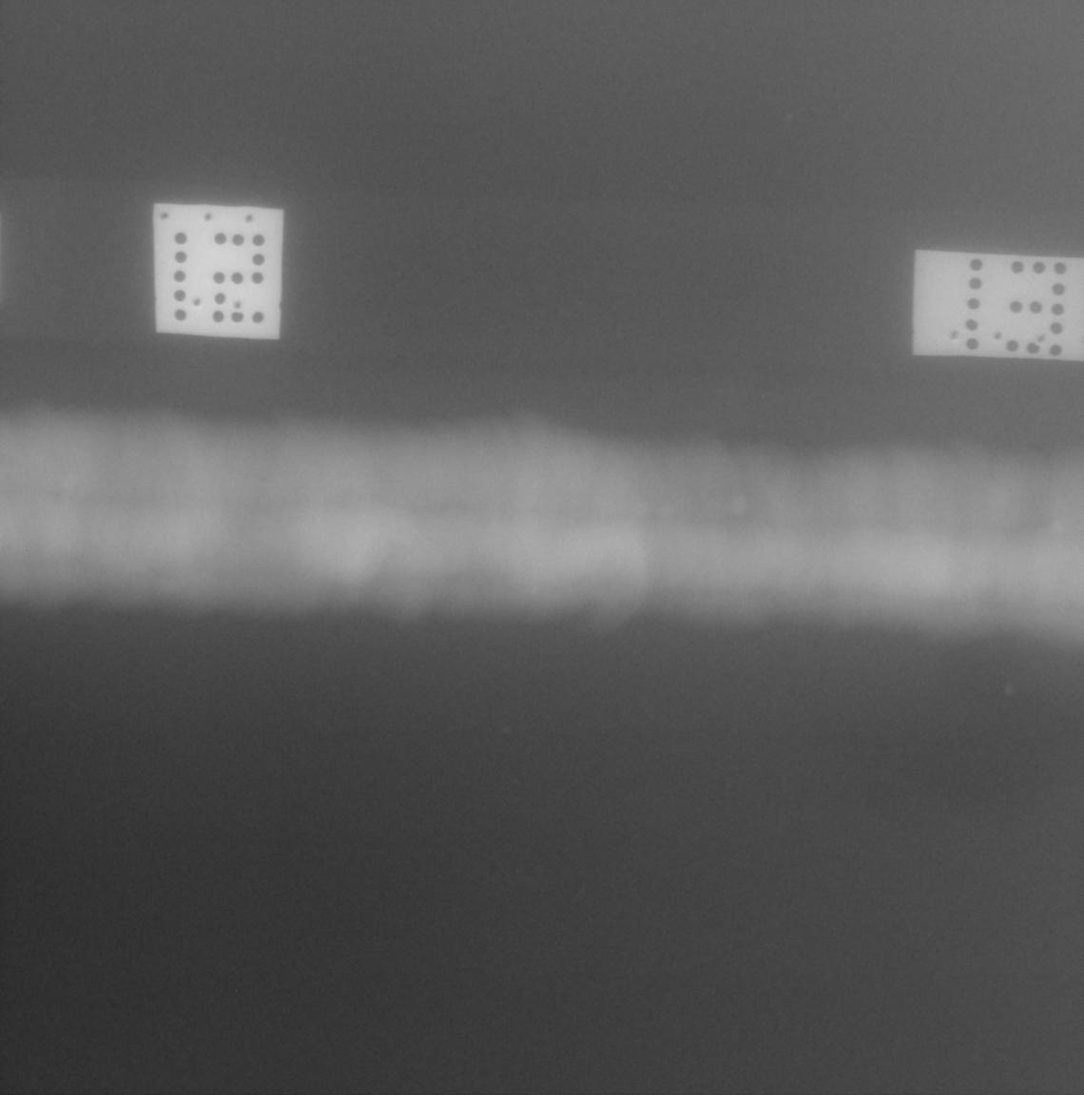Pore/Porosity: (262, 477, 265, 481)
